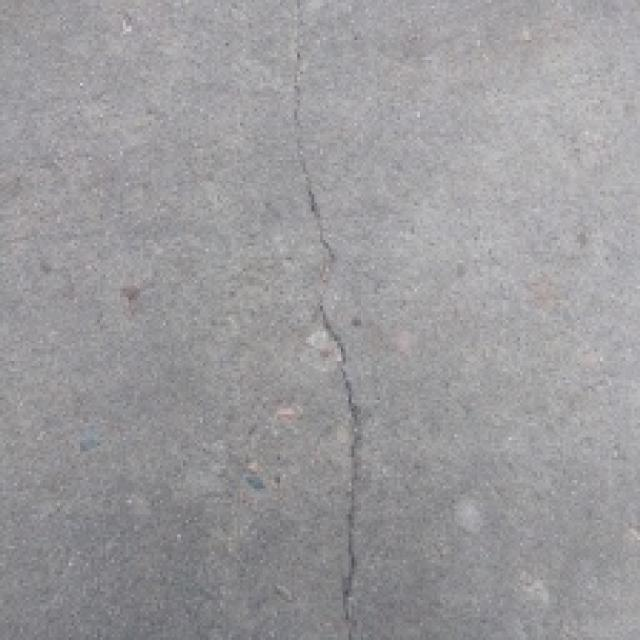crack: (276, 2, 380, 640)
